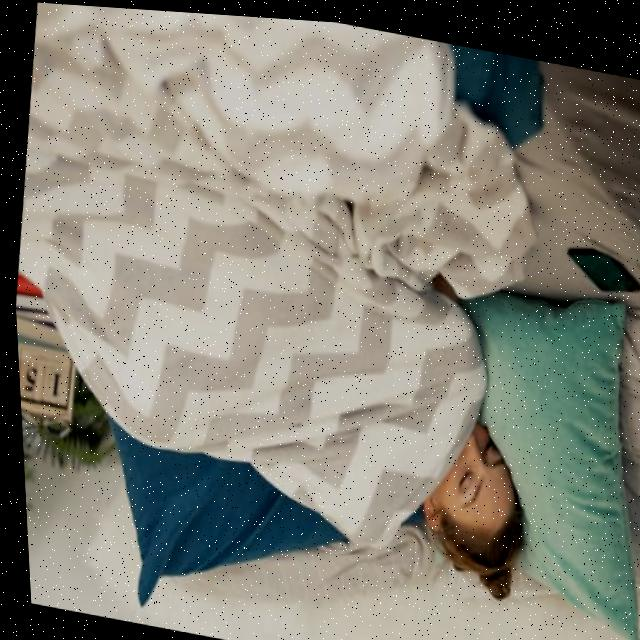sleeping-person: (0, 0, 585, 626)
